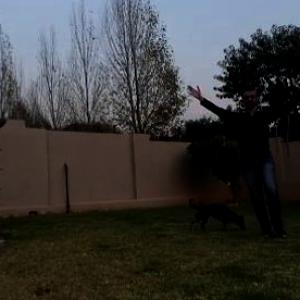takeoff: (180, 75, 300, 250)
